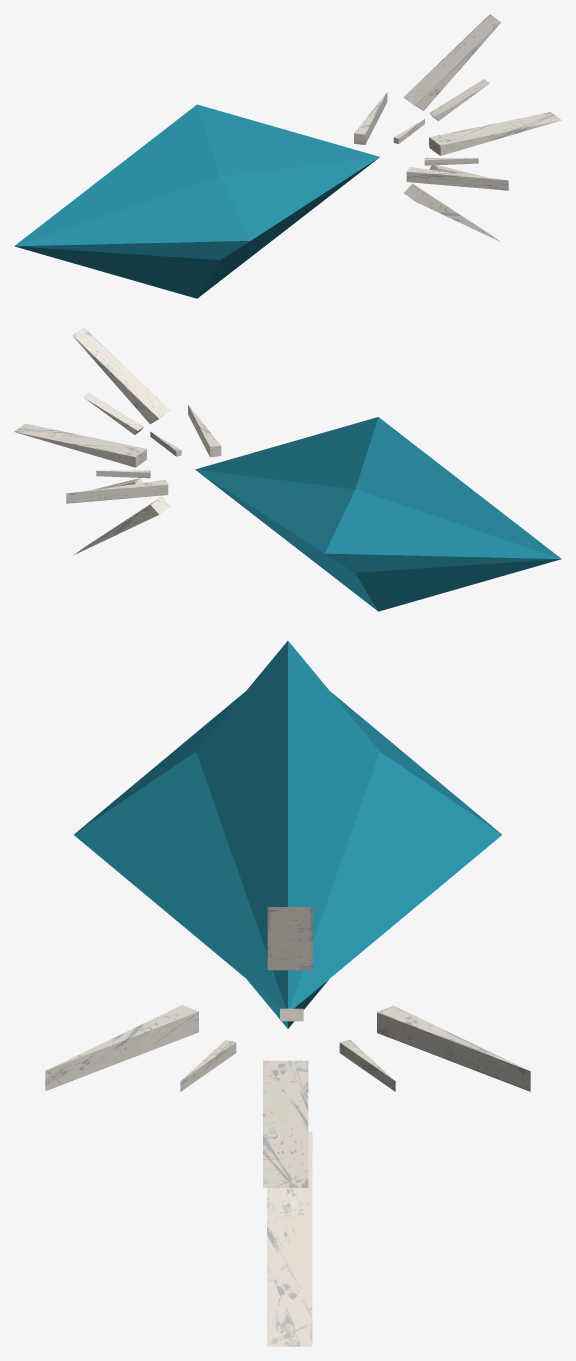
The model's file is Q_attack.fbx.
3 renders of one model, top to bottom at view 1: azimuth 30°, elevation 25°; view 2: azimuth 150°, elevation 25°; view 3: azimuth 270°, elevation 25°, orthographic. The views are drawn at different scales.
Parts seen in each view (by area): view 1: polySurface96; view 2: polySurface96; view 3: polySurface96.
Boxes of the visible parts, x1,y1,x2,y2 form: polySurface96: (14,14,561,298); polySurface96: (14,327,561,611); polySurface96: (45,641,530,1346).
Bounding box in the file's own units: 6.57 × 2.55 × 2.55.
2 materials, 1 textured.
